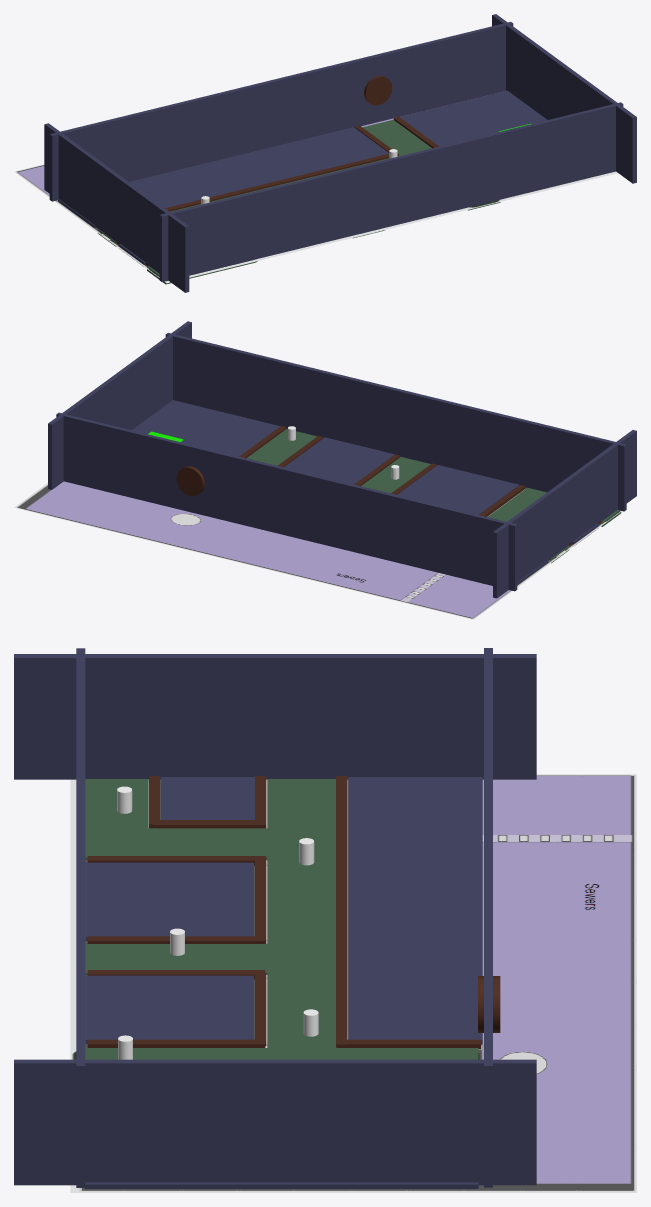
The model's file is sewer map.fbx.
The picture shows the model from 3 angles, top to bottom: view 1: azimuth 30°, elevation 25°; view 2: azimuth 150°, elevation 25°; view 3: azimuth 270°, elevation 25°; orthographic projection. The views are drawn at different scales.
Parts seen in each view (by area): view 1: Cube__20_, Cube__19_, Cube__22_, Cube__2_, Cube__21_, Cube__3_, Plane__1_, Cube__8_, Cube__8__1, Cylinder__5_; view 2: Cube__19_, Cube__20_, Plane__1_, Cube__22_, Cube__21_, Cube__3_, Cube__5_, Cube__4_, Cube__8_, Cube__9_, Cube__10_, Cylinder__5_; view 3: Cube__21_, Cube__22_, Plane__1_, Cube__2_, Cube__7_, Cube__5_, Cube__4_, Cube__20_, Cube__10_, Cube__19_, Cube__9_, Cube__8_ (+13 smaller).
Boxes of the visible parts, box(x1,y1,x2,y2) form: Cube__20_: box(159, 102, 623, 281); Cube__19_: box(49, 22, 513, 201); Cube__22_: box(44, 123, 189, 292); Cube__2_: box(58, 127, 389, 227); Cube__21_: box(492, 14, 636, 183); Cube__3_: box(399, 90, 547, 146); Plane__1_: box(14, 118, 617, 283); Cube__8_: box(362, 120, 500, 210); Cube__8__1: box(165, 153, 398, 211); Cylinder__5_: box(364, 75, 392, 105); Cube__19_: box(56, 412, 517, 591); Cube__20_: box(165, 332, 626, 511); Plane__1_: box(14, 481, 621, 619); Cube__22_: box(493, 430, 636, 598); Cube__21_: box(48, 321, 191, 489); Cube__3_: box(132, 400, 279, 456); Cube__5_: box(397, 465, 519, 514); Cube__4_: box(284, 437, 394, 484); Cube__8_: box(247, 429, 316, 465); Cube__9_: box(361, 457, 430, 493); Cube__10_: box(488, 487, 546, 521); Cylinder__5_: box(176, 466, 204, 495); Cube__21_: box(14, 1059, 536, 1185); Cube__22_: box(14, 654, 536, 779); Plane__1_: box(70, 774, 636, 1192); Cube__2_: box(348, 777, 482, 1044); Cube__7_: box(267, 779, 336, 1049); Cube__5_: box(85, 862, 253, 940); Cube__4_: box(85, 975, 253, 1043); Cube__20_: box(76, 648, 85, 1187); Cube__10_: box(85, 828, 274, 859); Cube__19_: box(484, 648, 492, 1187); Cube__9_: box(85, 943, 274, 974); Cube__8_: box(85, 1048, 478, 1059).
Size of the model in its own units: 11121 by 1595 by 6949.
Materials: 6 (1 with a texture image).
